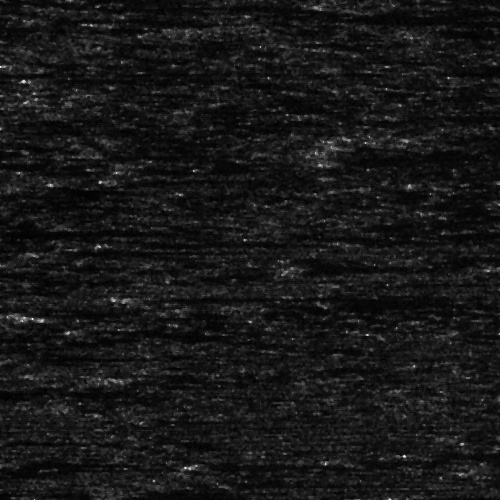object: (63, 286, 198, 305), (420, 459, 500, 486), (386, 28, 427, 37), (0, 224, 20, 237), (1, 311, 42, 316)
shadow: (131, 286, 392, 305), (0, 224, 146, 237), (407, 28, 480, 37), (22, 311, 85, 316)
